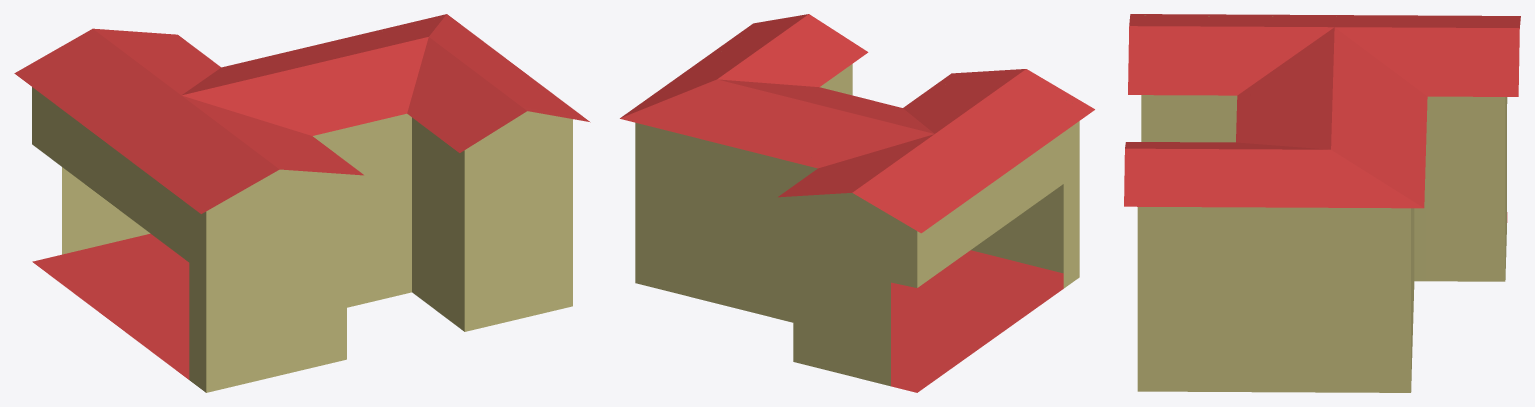
3 renders of one model, left to right at view 1: azimuth 30°, elevation 25°; view 2: azimuth 150°, elevation 25°; view 3: azimuth 270°, elevation 25°, orthographic. The views are drawn at different scales.
Bounding box in the file's own units: 17.23 × 14.88 × 8.98.
